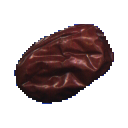ng: (11, 20, 119, 108)
